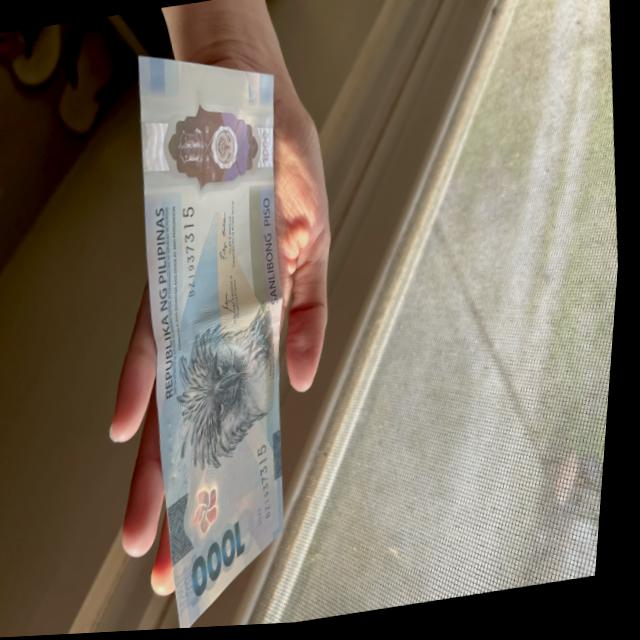clear_window: (164, 103, 267, 190)
eagle: (172, 296, 287, 463)
sampaguita: (195, 483, 237, 538)
